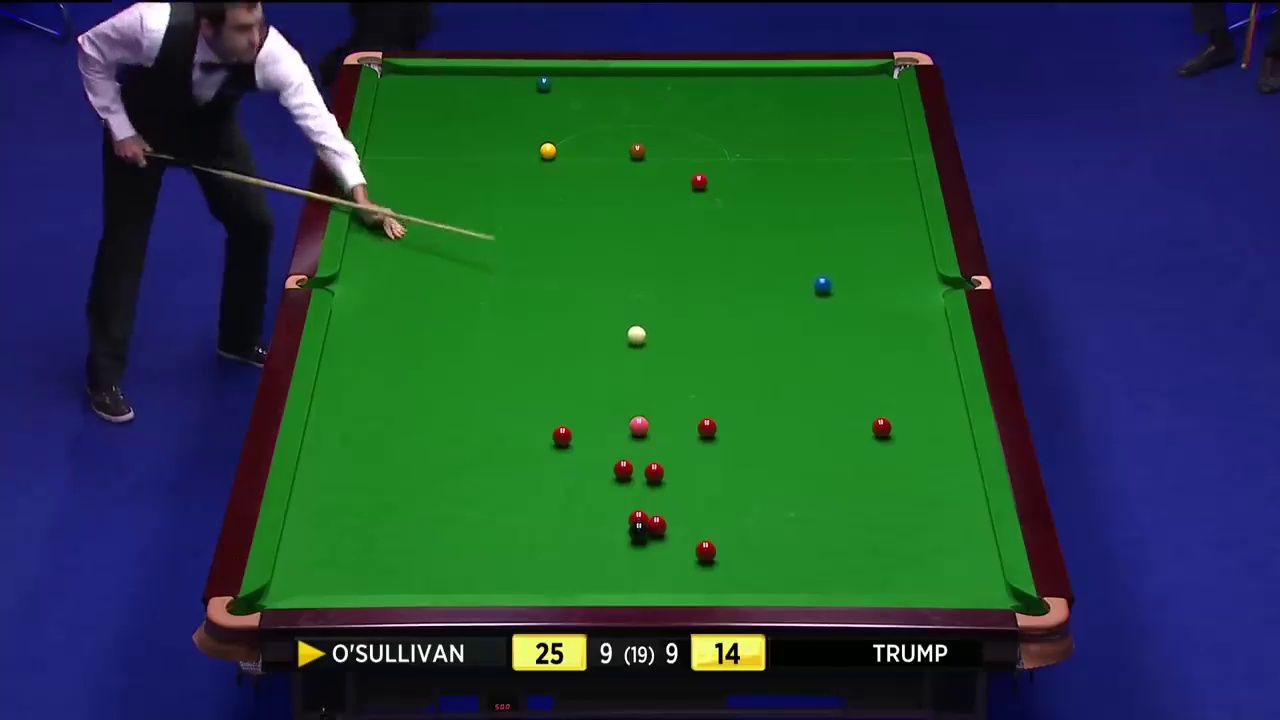ball: (628, 416, 649, 437), (695, 419, 717, 438), (553, 424, 573, 444), (613, 460, 635, 478), (872, 419, 891, 439), (532, 73, 553, 91), (628, 324, 647, 342), (537, 140, 555, 158), (697, 541, 714, 559), (645, 464, 664, 480), (813, 275, 830, 292), (689, 172, 707, 188), (628, 144, 646, 158)
